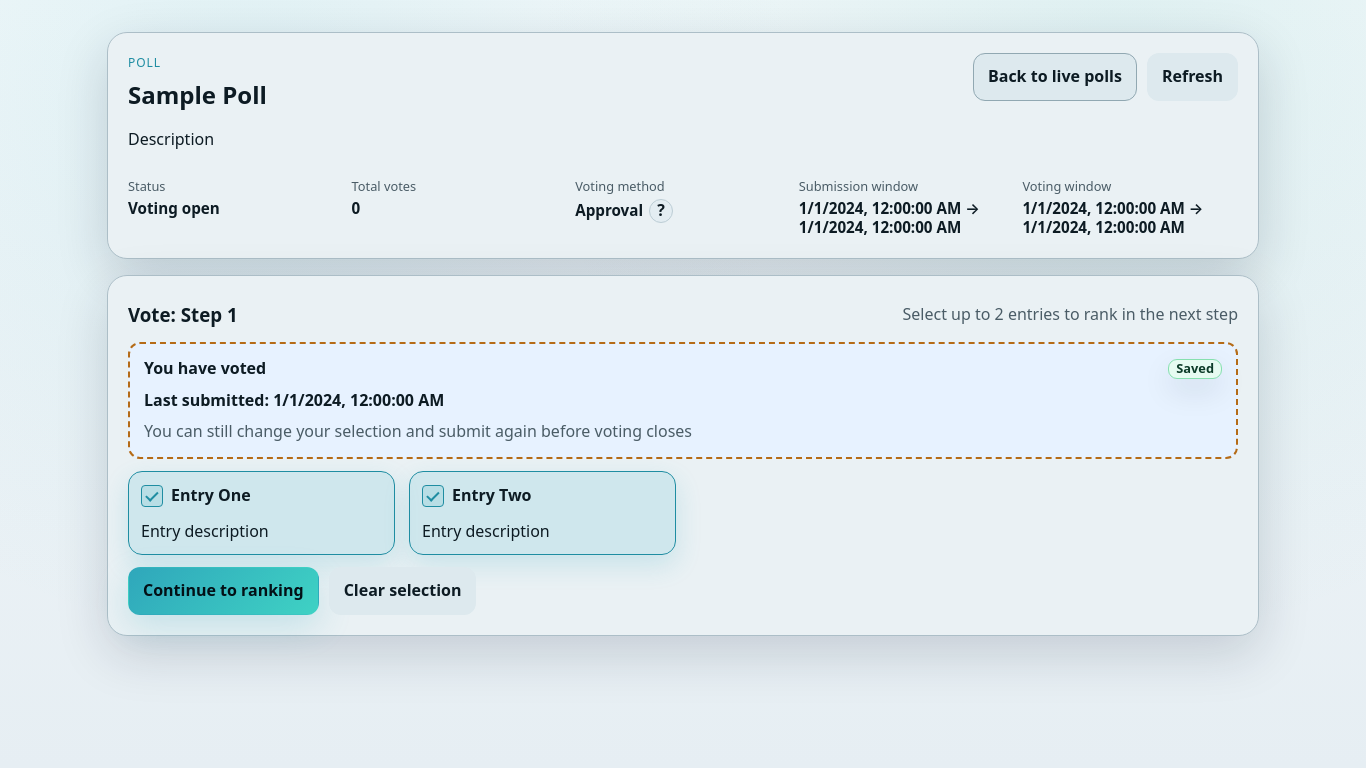
Test: CurrentPollPage › closes ranking modal after updating an existing vote
The width and height of the screenshot is (1366, 768).
Expected: the element with test id "current-poll-header" is shown, [107, 32, 1259, 259]
Expected: the element with test id "voting-section" is shown, [107, 275, 1259, 636]
Click the button "Continue to ranking": (223, 591) [128, 568, 319, 615]
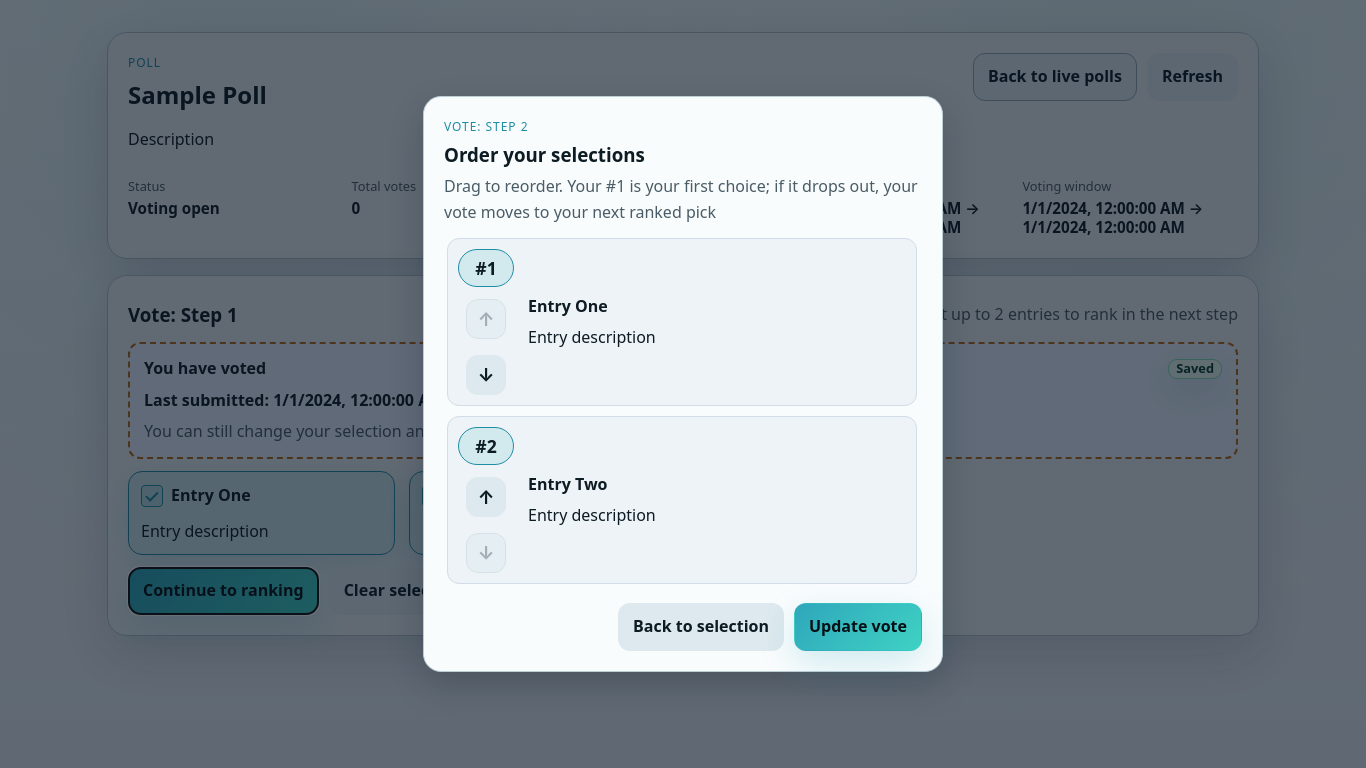
Now the heading "Order your selections" is shown, box [444, 142, 645, 167]
Click the button "Update vote": (858, 627) [794, 603, 922, 651]
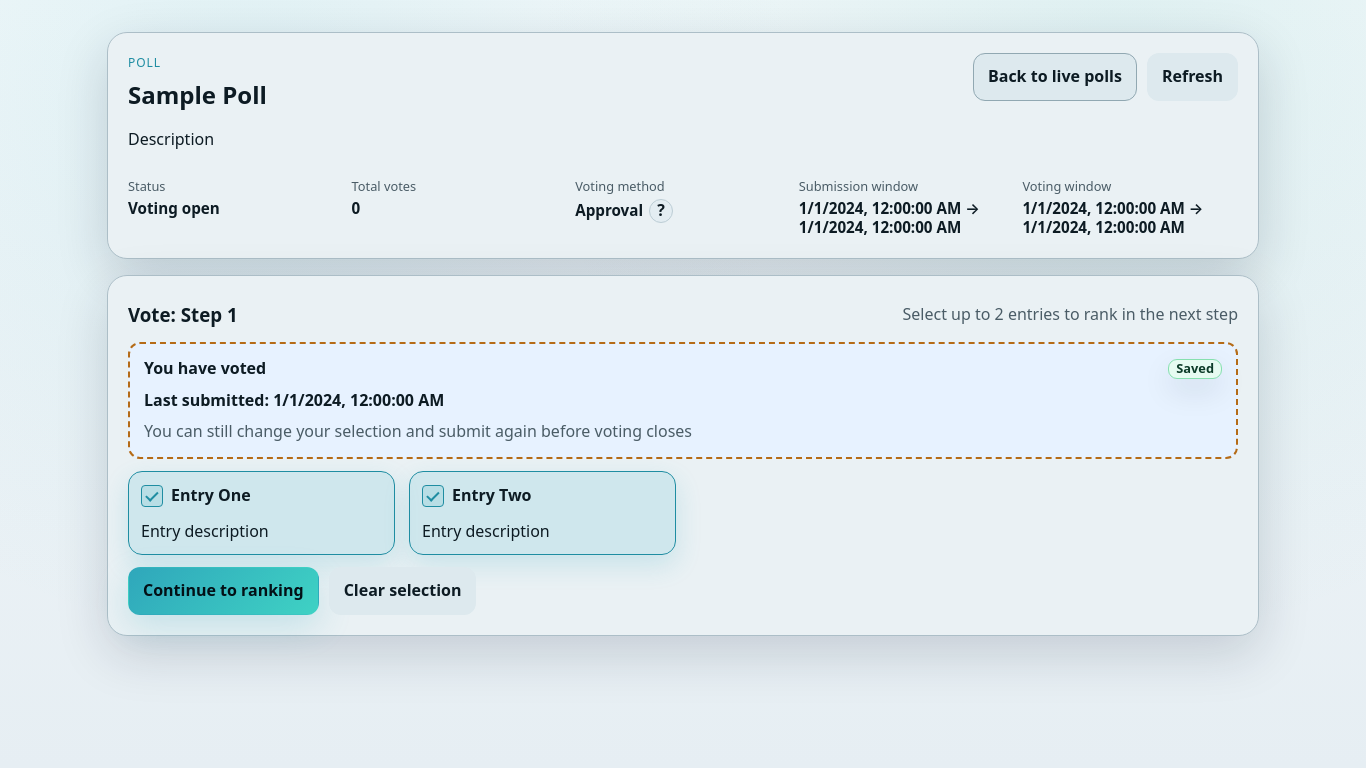
Now the heading "Order your selections" is gone
